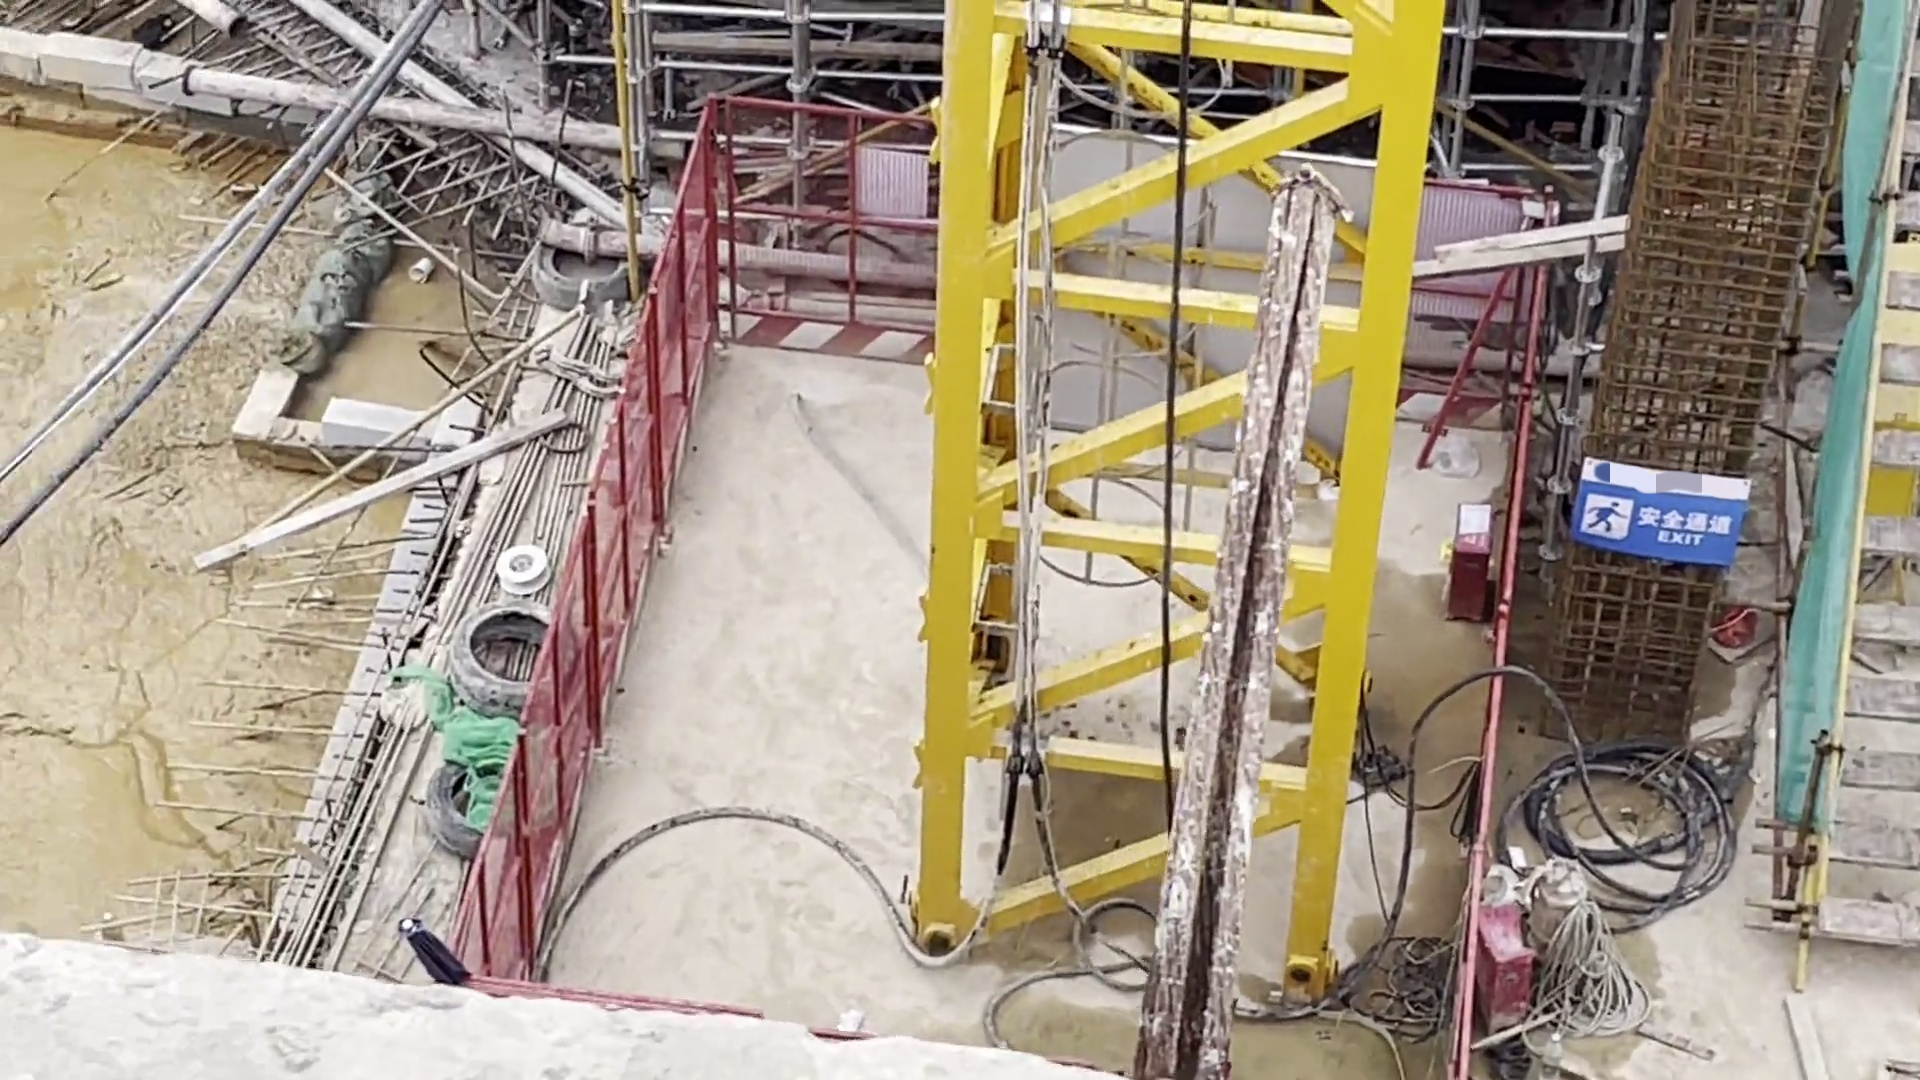ebox: (1851, 243, 1920, 543)
fence: (708, 100, 1561, 384), (451, 103, 715, 986), (1445, 210, 1564, 1079)
